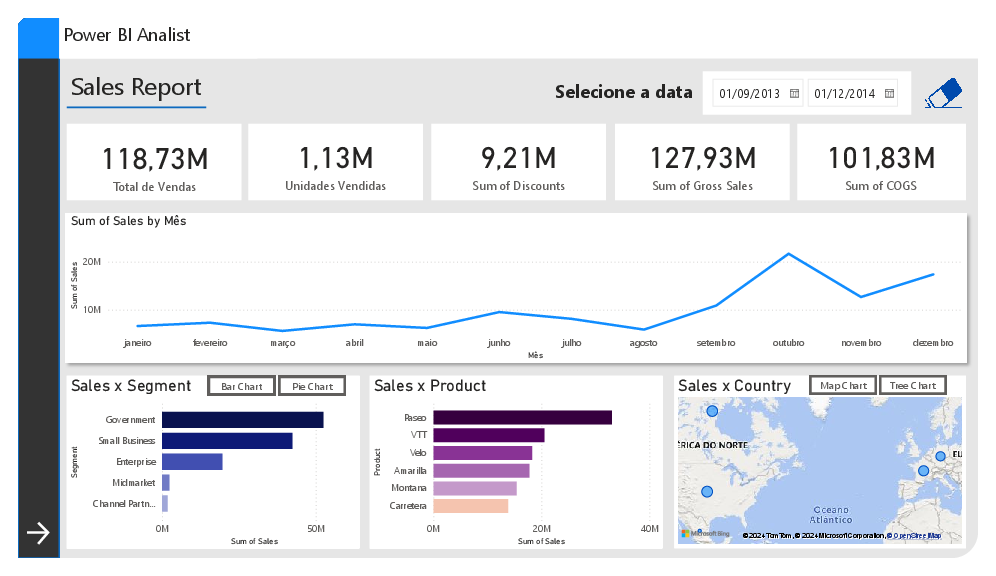

The dashboard page shown, as its layout file describes it:
{"tool":"powerbi","page":{"name":"Page 1","canvas":[1280,720],"ordinal":0},"visuals":[{"type":"shape","box":[0,0,1280,720],"z":0},{"type":"slicer","fields":{"Values":["financials.Date"]},"box":[912.7,71.3,278.2,58.4],"z":0,"group":"g2"},{"type":"shape","box":[65.3,105.4,186.3,28.3],"z":0,"group":"g5"},{"type":"shape","box":[65.3,140.6,233.2,102.4],"z":0,"group":"g1"},{"type":"map","title":"Sales x Country","fields":{"Size":["Sum(financials. Sales)"],"Category":["financials.Country"]},"box":[875.1,477.1,389,230.7],"z":0,"group":"g3"},{"type":"clusteredBarChart","title":"Sales x Segment","fields":{"Category":["financials.Segment"],"Y":["Sum(financials. Sales)"]},"box":[65.3,477.2,390,230.7],"z":0,"group":"g4"},{"type":"shape","box":[0,0,54.6,720],"z":1000},{"type":"textbox","box":[65.3,62.4,282.1,54.4],"z":1000,"group":"g5"},{"type":"textbox","box":[710.8,75.3,201.9,50.5],"z":1000,"group":"g2"},{"type":"shape","box":[551.2,140.6,233.2,102.4],"z":1000,"group":"g1"},{"type":"actionButton","title":"Button tree","box":[1148.5,476.3,89.8,26.3],"z":1250,"group":"g3"},{"type":"actionButton","title":"Button pie","box":[347.3,477.1,89.8,26.3],"z":1250,"group":"g4"},{"type":"actionButton","title":"Button map","box":[1054.9,476.3,89.8,26.3],"z":1500,"group":"g3"},{"type":"actionButton","title":"Button bar","box":[253.6,477.1,89.8,26.3],"z":1500,"group":"g4"},{"type":"shape","box":[0,0,54.6,53.7],"z":2000},{"type":"image","box":[1202.8,71.3,62.4,58.4],"z":2000,"group":"g2"},{"type":"shape","box":[796,140.6,233.2,102.4],"z":2000,"group":"g1"},{"type":"shape","box":[54.6,0,1225.4,53.7],"z":3000},{"type":"shape","box":[1039,140.6,225.4,102.4],"z":3000,"group":"g1"},{"type":"textbox","box":[54.6,0,264.4,53.7],"z":4000},{"type":"shape","box":[307.3,140.6,233.2,102.4],"z":4000,"group":"g1"},{"type":"group","id":"g1","title":"Cards","box":[65.3,140.6,1199,102.4],"z":5000},{"type":"card","fields":{"Values":["Sum(financials. Sales)"]},"box":[73.9,145.2,216.8,95],"z":5000,"group":"g1"},{"type":"card","fields":{"Values":["Sum(financials.Units Sold)"]},"box":[314.8,144.5,216.8,95],"z":6000},{"type":"shape","box":[54.6,251.7,1218.5,216.6],"z":7000},{"type":"shape","box":[65.4,477.1,390.2,230.2],"z":8000},{"type":"shape","box":[469.3,477.1,390.2,230.2],"z":9000},{"type":"shape","box":[875.1,477.1,389.3,230.2],"z":10000},{"type":"lineChart","fields":{"Y":["Sum(financials. Sales)"],"Category":["financials.Date.Variation.Hierarquia de datas.Mês"]},"box":[65.4,260.5,1199,200],"z":11000},{"type":"card","fields":{"Values":["Sum(financials.Discounts)"]},"box":[559.3,144.5,216.8,95],"z":12000},{"type":"card","fields":{"Values":["Sum(financials.Gross Sales)"]},"box":[803.8,144.5,216.8,95],"z":13000},{"type":"card","fields":{"Values":["Sum(financials.COGS)"]},"box":[1042.4,144.5,216.8,95],"z":14000},{"type":"clusteredBarChart","title":"Sales x Product","fields":{"Y":["Sum(financials. Sales)"],"Category":["financials.Product"]},"box":[469.2,477.2,390,230.7],"z":15000},{"type":"group","id":"g2","title":"Filtro por data","box":[710.8,71.3,554.4,58.4],"z":16000},{"type":"group","id":"g3","title":"Sales x Country","box":[875.1,476.3,389,231.5],"z":17000},{"type":"group","id":"g4","title":"Sales x Segment","box":[65.3,477.1,390,230.7],"z":18000},{"type":"group","id":"g5","title":"Title Report","box":[65.3,62.4,282.1,71.3],"z":19000},{"type":"actionButton","box":[5.9,667.3,42.9,40],"z":20000}]}

Visuals, with their boxes on the page's 1280x720 design canvas (x1, y1, x2, y2). These are canvas units, not pixel positions in the 996x576 screenshot, which may show the page scaled, cropped or inside an application window:
shape: Rect(0, 0, 1280, 720)
slicer - financials.Date: Rect(913, 71, 1191, 130)
shape: Rect(65, 105, 252, 134)
shape: Rect(65, 141, 298, 243)
"Sales x Country" map: Rect(875, 477, 1264, 708)
"Sales x Segment" clusteredBarChart: Rect(65, 477, 455, 708)
shape: Rect(0, 0, 55, 720)
textbox: Rect(65, 62, 347, 117)
textbox: Rect(711, 75, 913, 126)
shape: Rect(551, 141, 784, 243)
"Button tree" actionButton: Rect(1148, 476, 1238, 503)
"Button pie" actionButton: Rect(347, 477, 437, 503)
"Button map" actionButton: Rect(1055, 476, 1145, 503)
"Button bar" actionButton: Rect(254, 477, 343, 503)
shape: Rect(0, 0, 55, 54)
image: Rect(1203, 71, 1265, 130)
shape: Rect(796, 141, 1029, 243)
shape: Rect(55, 0, 1280, 54)
shape: Rect(1039, 141, 1264, 243)
textbox: Rect(55, 0, 319, 54)
shape: Rect(307, 141, 540, 243)
"Cards" group: Rect(65, 141, 1264, 243)
card - Sum(financials. Sales): Rect(74, 145, 291, 240)
card - Sum(financials.Units Sold): Rect(315, 144, 532, 240)
shape: Rect(55, 252, 1273, 468)
shape: Rect(65, 477, 456, 707)
shape: Rect(469, 477, 860, 707)
shape: Rect(875, 477, 1264, 707)
lineChart - Sum(financials. Sales) x financials.Date.Variation.Hierarquia de datas.Mês: Rect(65, 260, 1264, 460)
card - Sum(financials.Discounts): Rect(559, 144, 776, 240)
card - Sum(financials.Gross Sales): Rect(804, 144, 1021, 240)
card - Sum(financials.COGS): Rect(1042, 144, 1259, 240)
"Sales x Product" clusteredBarChart: Rect(469, 477, 859, 708)
"Filtro por data" group: Rect(711, 71, 1265, 130)
"Sales x Country" group: Rect(875, 476, 1264, 708)
"Sales x Segment" group: Rect(65, 477, 455, 708)
"Title Report" group: Rect(65, 62, 347, 134)
actionButton: Rect(6, 667, 49, 707)
